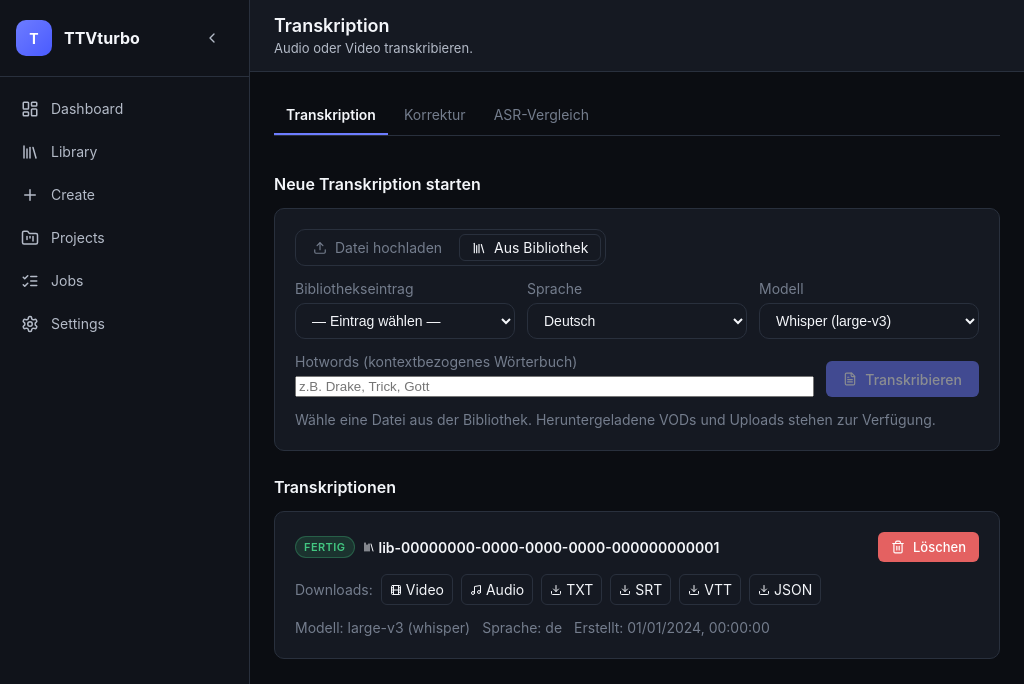
Scenario: Transcript editor frontend › warns before discarding unsaved drafts
Check: the heading "Neue Transkription starten" is shown, box [274, 174, 481, 194]
Click the tab "Korrektur": (435, 116) [392, 96, 478, 135]
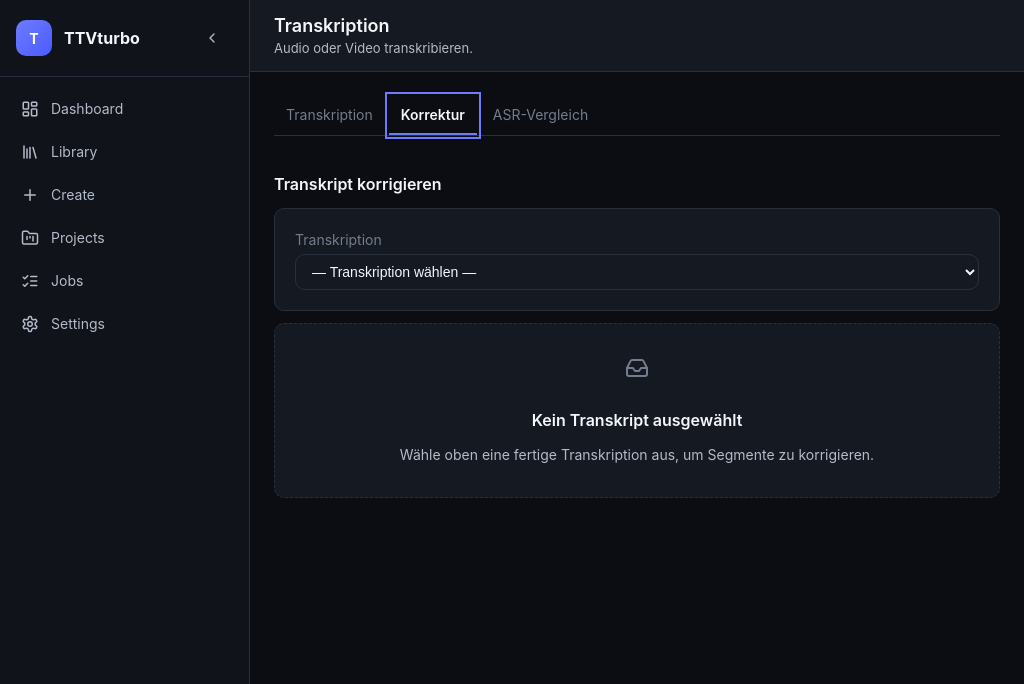
Check: the heading "Transkript korrigieren" is shown, box [274, 174, 442, 194]
Select "Test Upload · large-v3 · 01/01/2024, 00:00:00" in the dropdown labelled "Transkription": (637, 272) [295, 254, 979, 290]
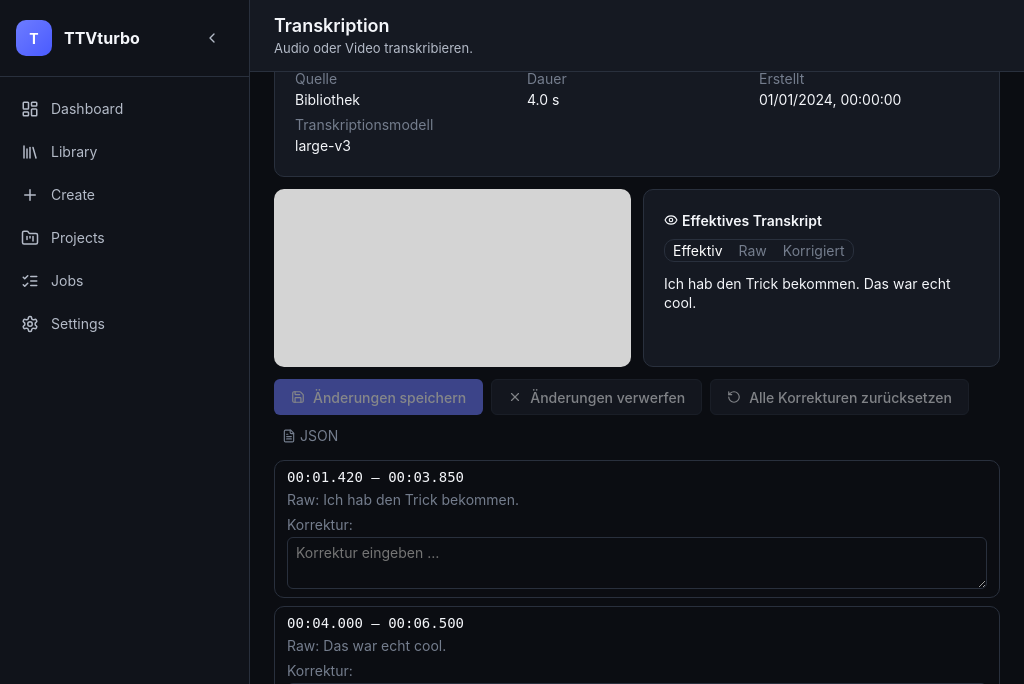
Check: the text "Ich hab den Trick bekommen." is shown, box [323, 489, 519, 510]
In the 1st text box with placeholder "Korrektur eingeben …": (637, 563) [287, 537, 987, 589], type "Drake"
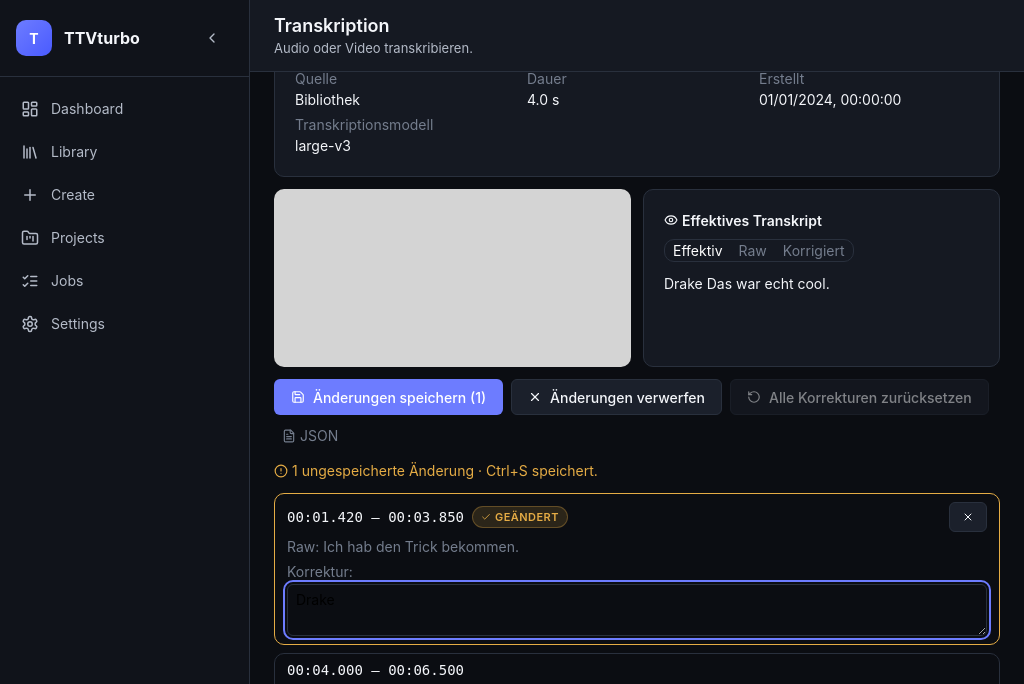
Click the button "Änderungen verwerfen": (617, 397) [511, 379, 722, 415]
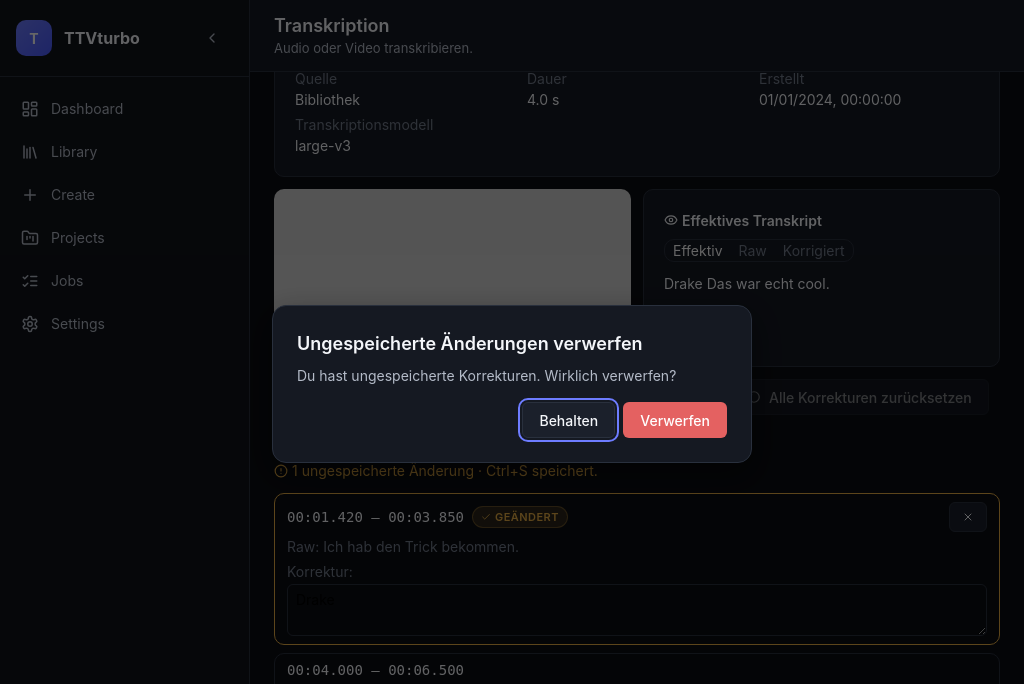
Check: the heading "Ungespeicherte Änderungen verwerfen" is shown, box [297, 333, 643, 354]
